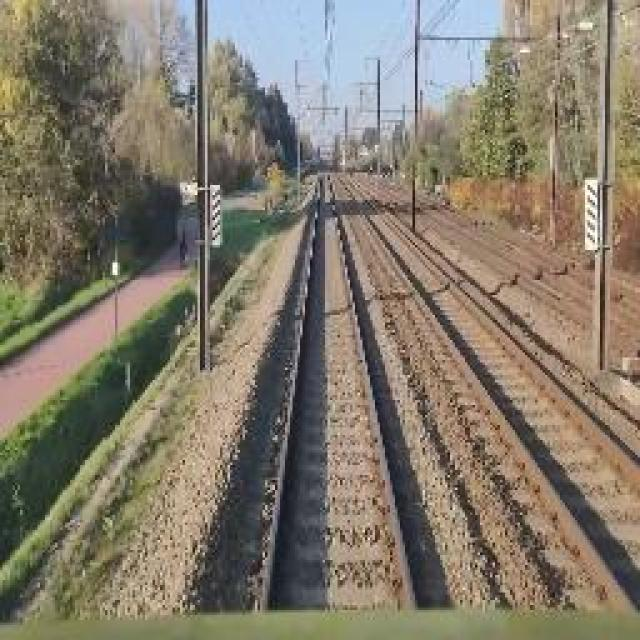rail: (330, 169, 640, 615), (208, 168, 451, 613), (354, 171, 640, 392)
